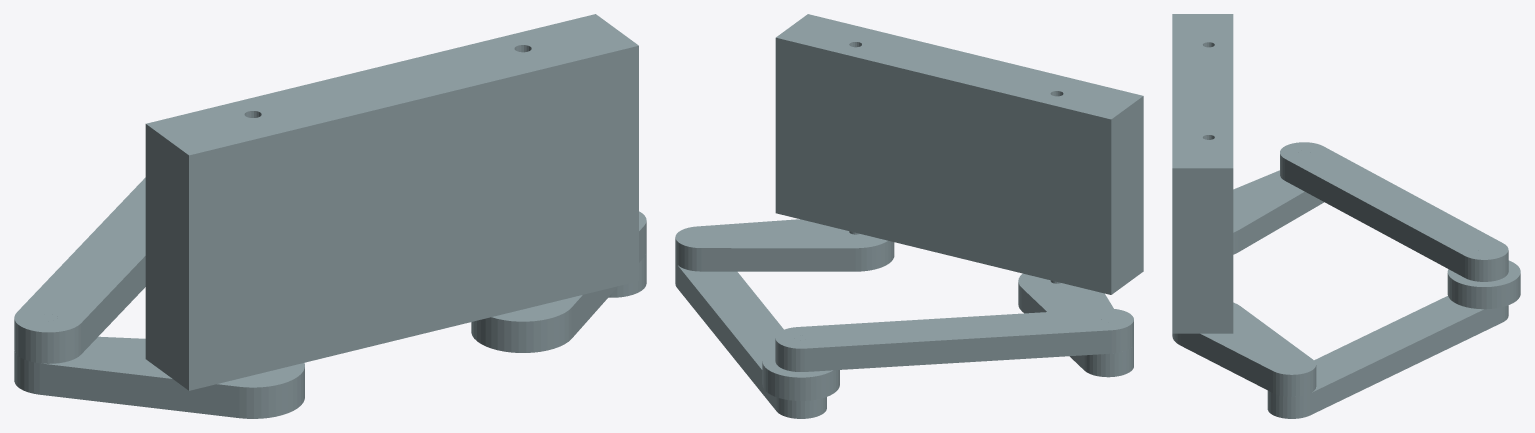
Rendered from Simple Robot Consept Assembly v2_changedLength.obj.
3 views of the same model, side by side, from view 1: azimuth 30°, elevation 25°; view 2: azimuth 150°, elevation 25°; view 3: azimuth 270°, elevation 25° (orthographic). The views are drawn at different scales.
Parts seen in each view (by area): view 1: Simple_Robot_Consept_Assembly_v2_changedLength; view 2: Simple_Robot_Consept_Assembly_v2_changedLength; view 3: Simple_Robot_Consept_Assembly_v2_changedLength.
Boxes of the visible parts, x1=… form: Simple_Robot_Consept_Assembly_v2_changedLength: x1=14, y1=14, x2=646, y2=418; Simple_Robot_Consept_Assembly_v2_changedLength: x1=675, y1=14, x2=1143, y2=418; Simple_Robot_Consept_Assembly_v2_changedLength: x1=1172, y1=14, x2=1520, y2=418.
Bounding box in the file's own units: 410 × 200 × 286.
